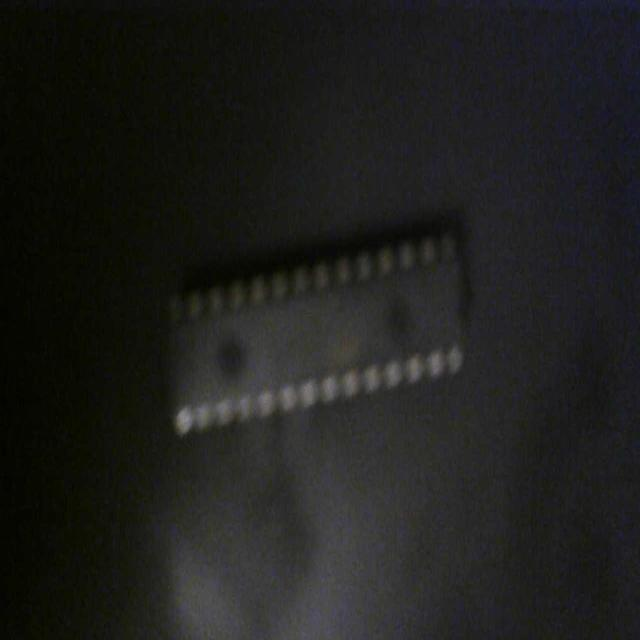atmega: (162, 204, 474, 444)
